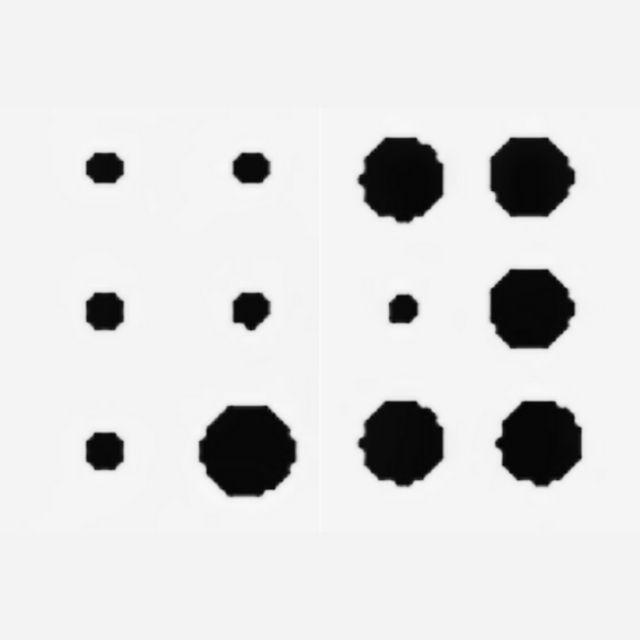Y: (358, 136, 583, 488)
capital: (64, 134, 298, 498)
